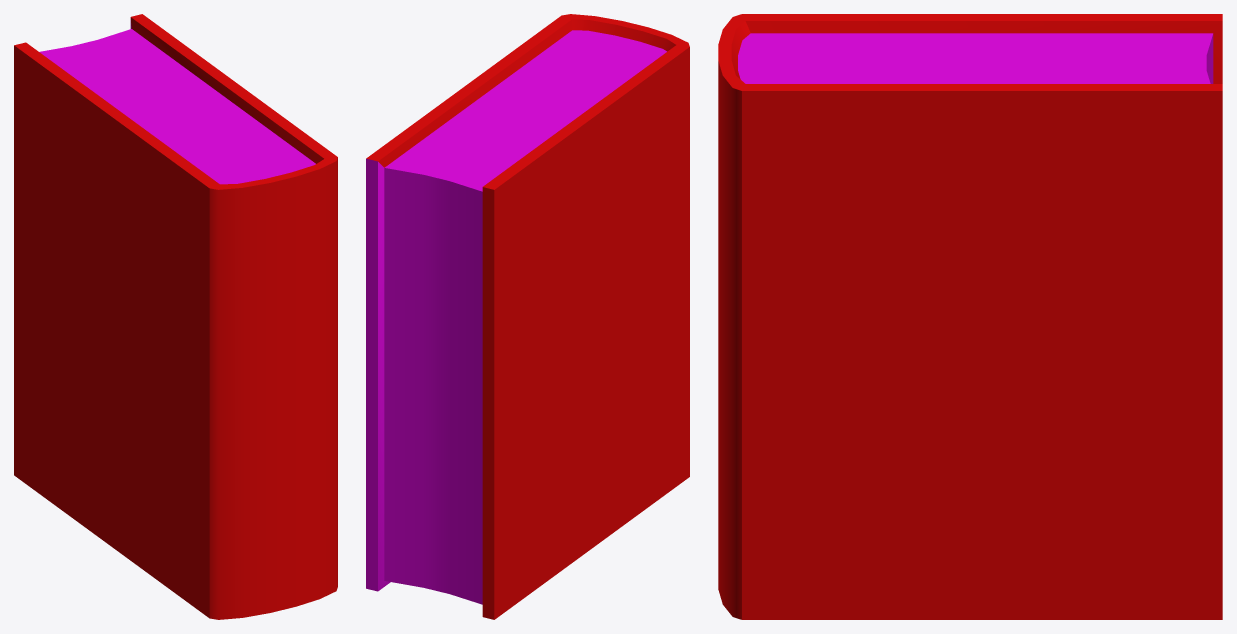
Rendered from SM_Book3.fbx.
3 renders of one model, left to right at view 1: azimuth 30°, elevation 25°; view 2: azimuth 150°, elevation 25°; view 3: azimuth 270°, elevation 25°, orthographic. The views are drawn at different scales.
Parts seen in each view (by area): view 1: SM_Book3; view 2: SM_Book3; view 3: SM_Book3.
Part boxes in pixels (box(x1,y1,x2,y2)): SM_Book3: box(14, 14, 337, 619); SM_Book3: box(366, 14, 689, 619); SM_Book3: box(718, 14, 1222, 619).
Bounding box in the file's own units: 10.59 × 33.91 × 29.31.
